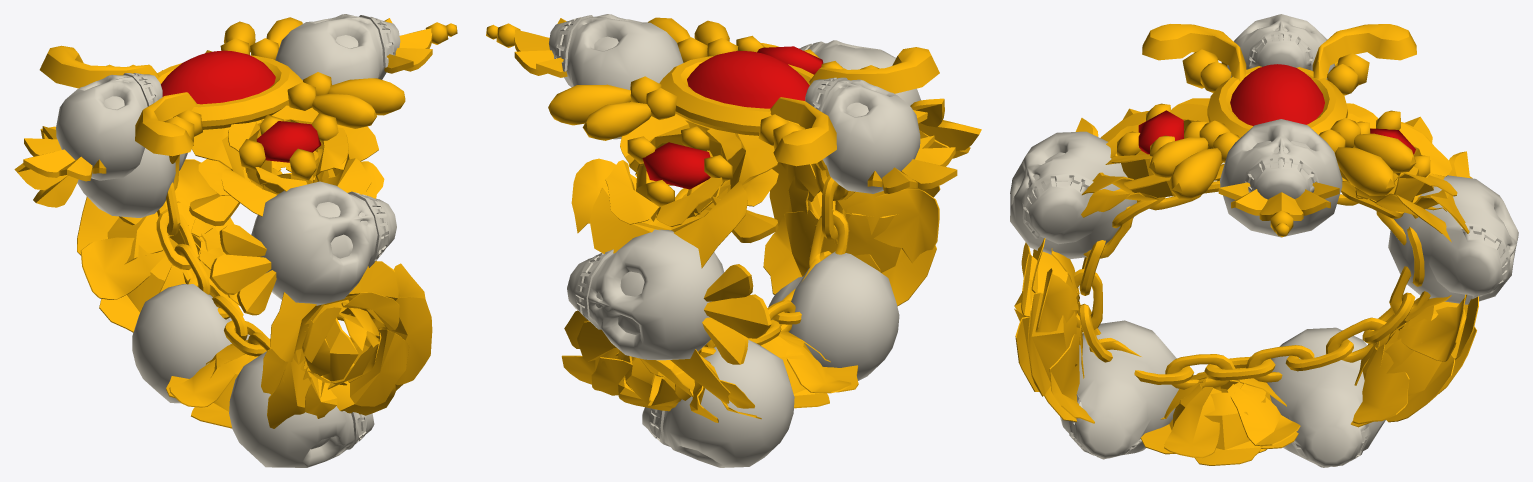
File: final_bracelet_skullandflowers.fbx
The picture shows the model from 3 angles, left to right: view 1: azimuth 30°, elevation 25°; view 2: azimuth 150°, elevation 25°; view 3: azimuth 270°, elevation 25°; orthographic projection. The views are drawn at different scales.
Parts seen in each view (by area): view 1: brace_Flower02; view 2: brace_Flower02; view 3: brace_Flower02.
Boxes of the visible parts, x1,y1,x2,y2 form: brace_Flower02: [14, 14, 457, 467]; brace_Flower02: [486, 14, 981, 467]; brace_Flower02: [1010, 14, 1518, 467].
Size of the model in its own units: 59.74 by 47.68 by 57.11.
